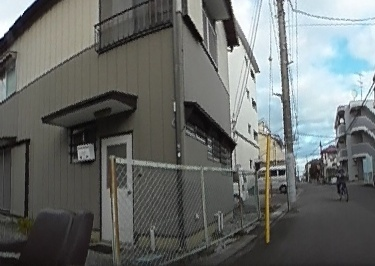person: (333, 161, 348, 193)
